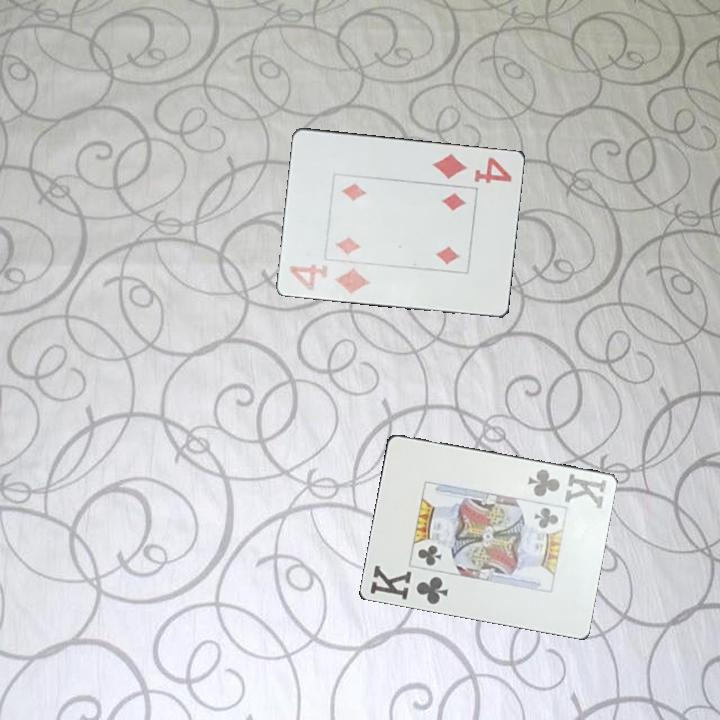4d: (286, 257, 373, 297), (429, 149, 515, 186)
Kc: (524, 465, 609, 512), (366, 562, 450, 608)
